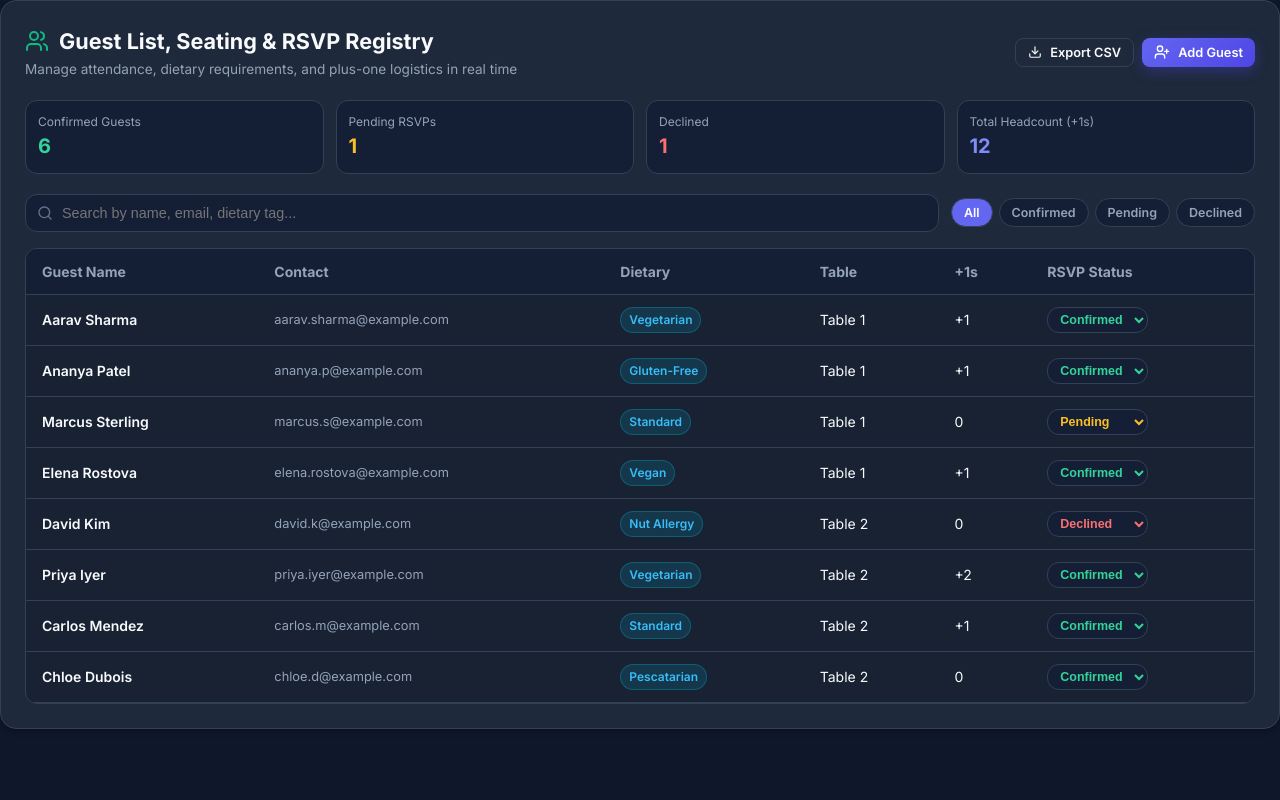
Test: Add guest validation › rejects an invalid email with an inline, announced error
Step 1. Click the button "Add Guest" → [1199, 52], box [1142, 38, 1255, 67]
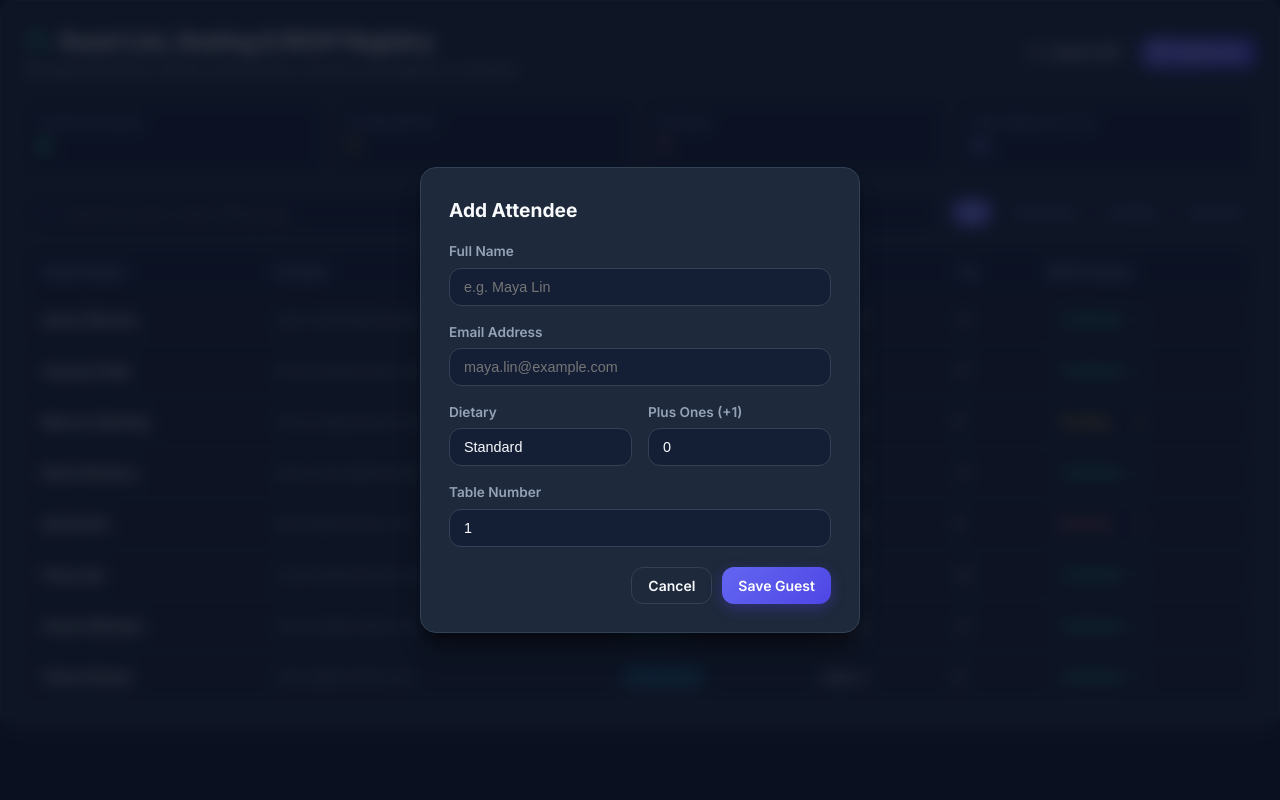
Step 2. Type "Ananya Rao" into the field labelled "Full Name" → [640, 286], box [449, 268, 831, 306]
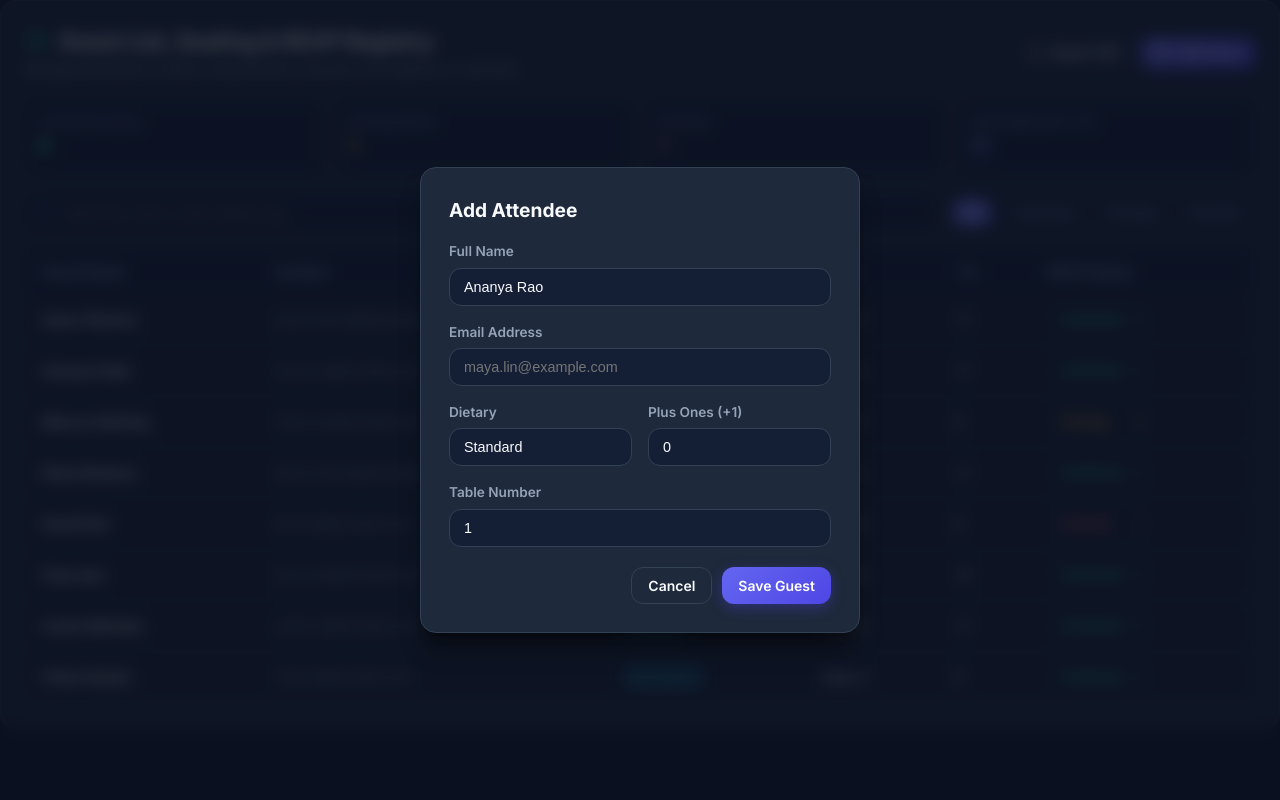
Step 3. Type "ananya@" into the field labelled "Email Address" → [640, 367], box [449, 348, 831, 386]
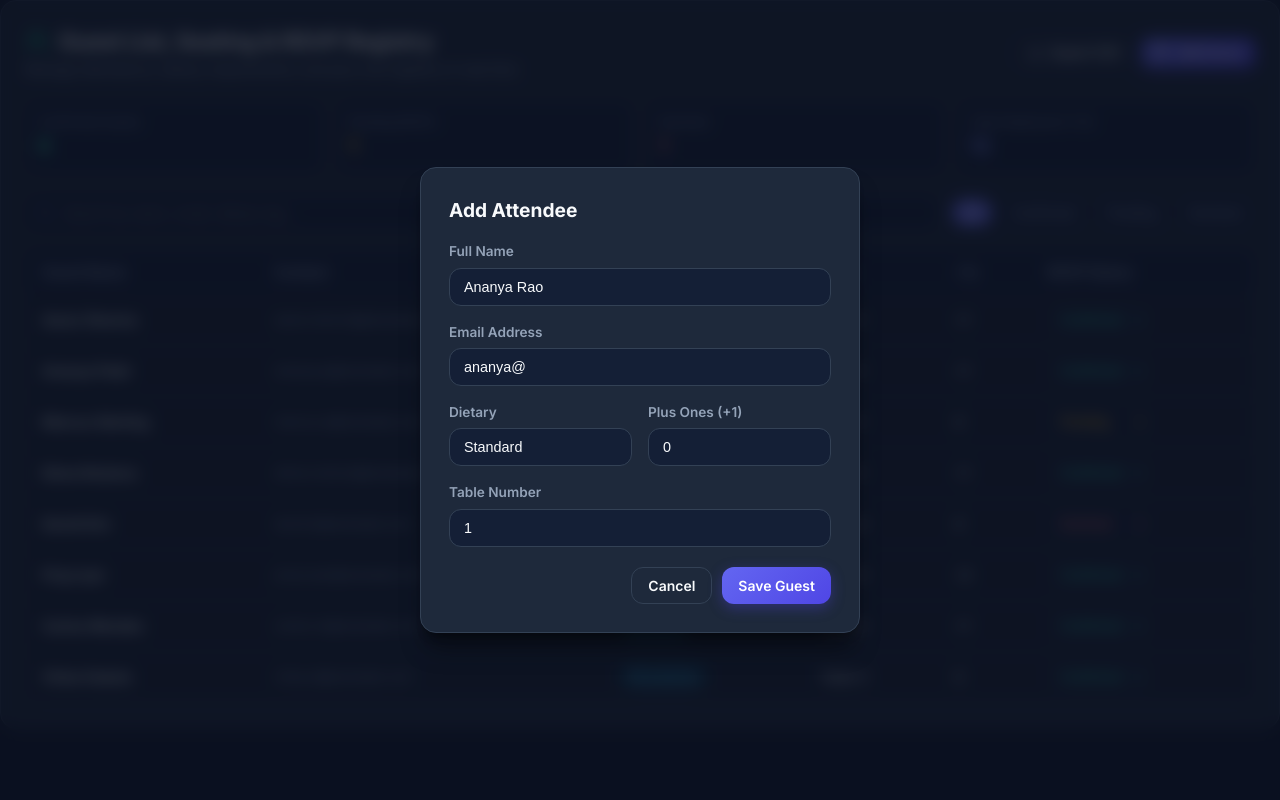
Step 4. Submit the form labelled "Full Name", box [449, 241, 831, 604]
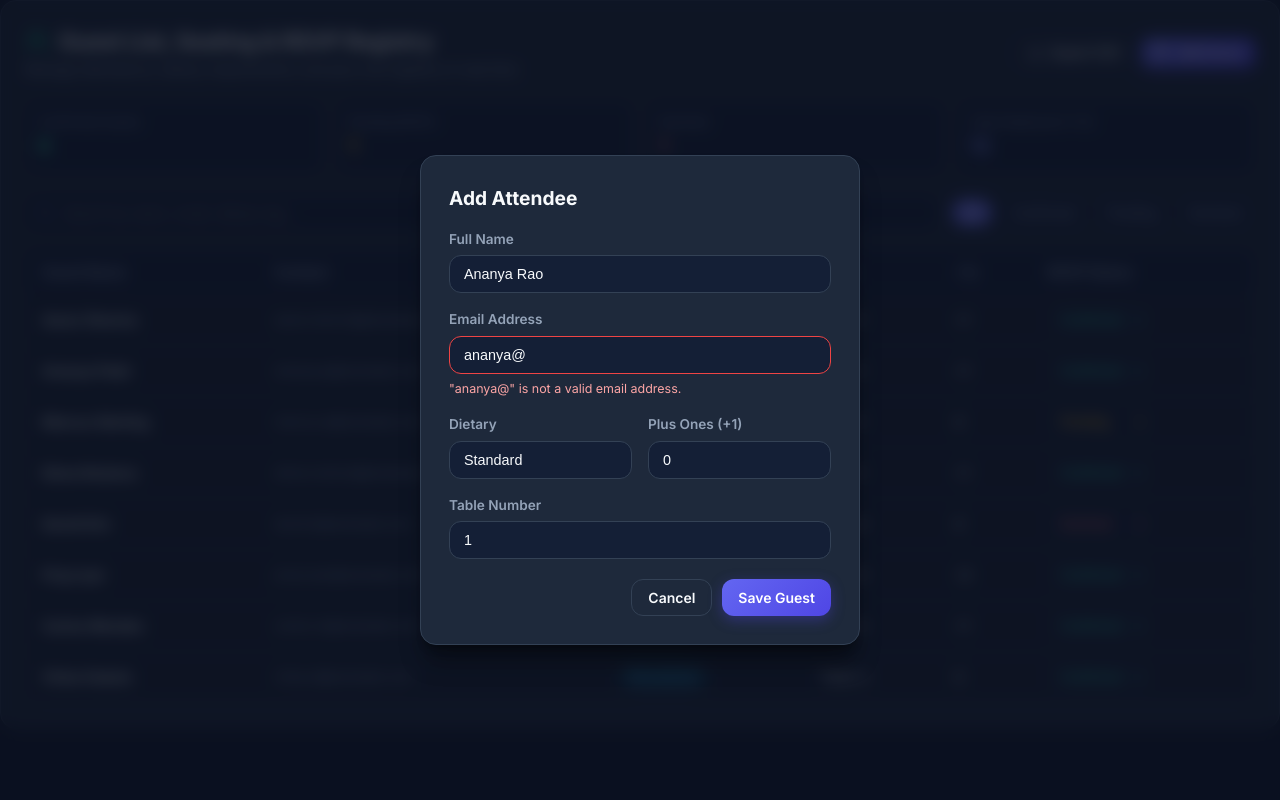
Now the message with id "g-email-error" shows "\"ananya@\" is not a valid email address", box [449, 380, 681, 396]
